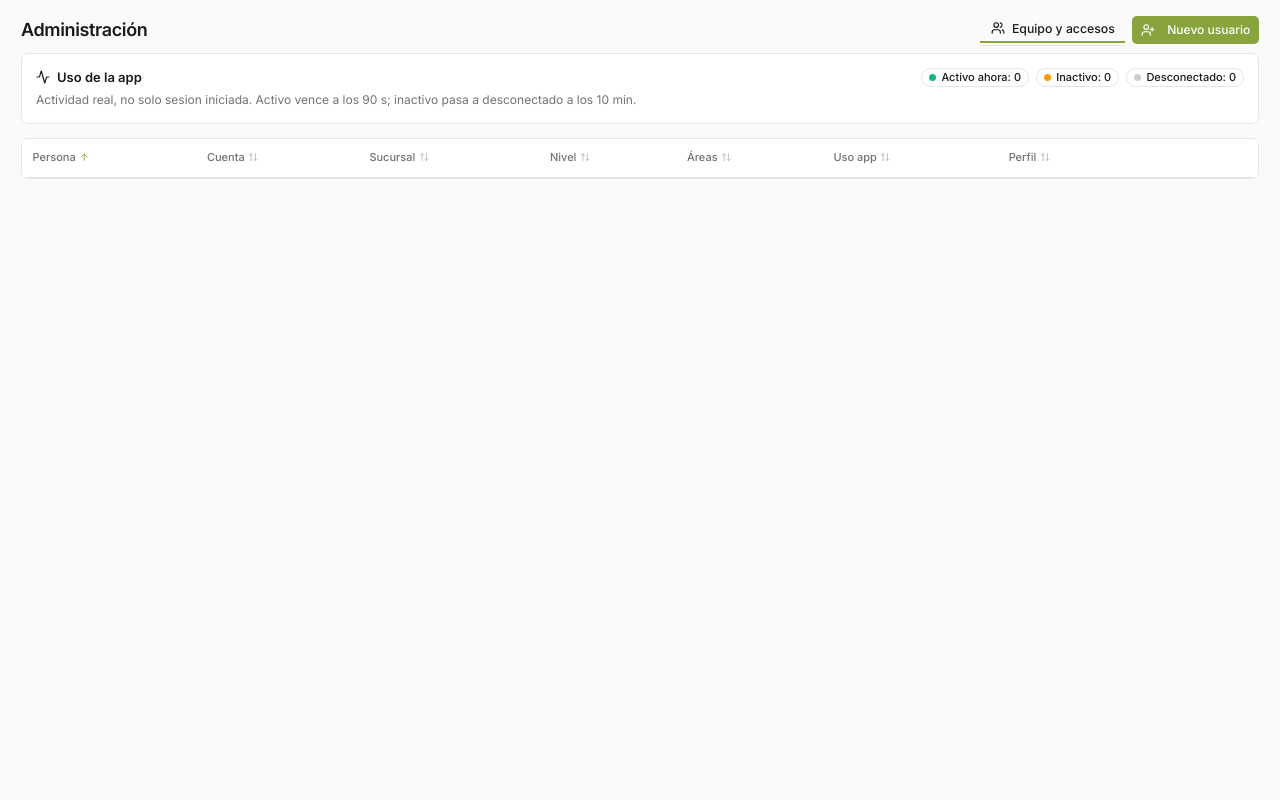
Administración: alta de operativos sin acceso › bloquea reenvíos y cambios de modo mientras se guarda
This screenshot has width=1280, height=800.
Later steps or results of the test are not shown.
Click the button "Nuevo usuario" at [1196, 30], box [1132,16,1259,44]
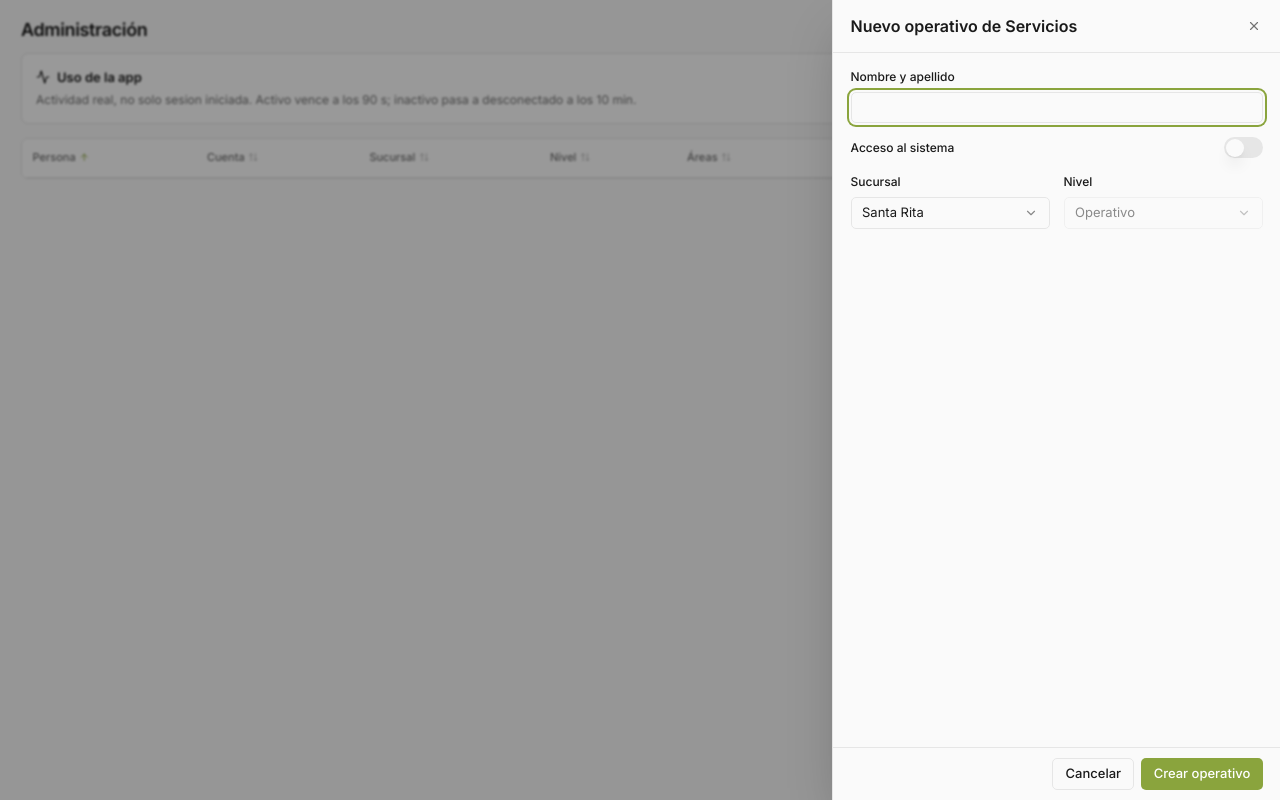
Click the button "Crear operativo" at [1202, 774], box [1141,758,1262,790]
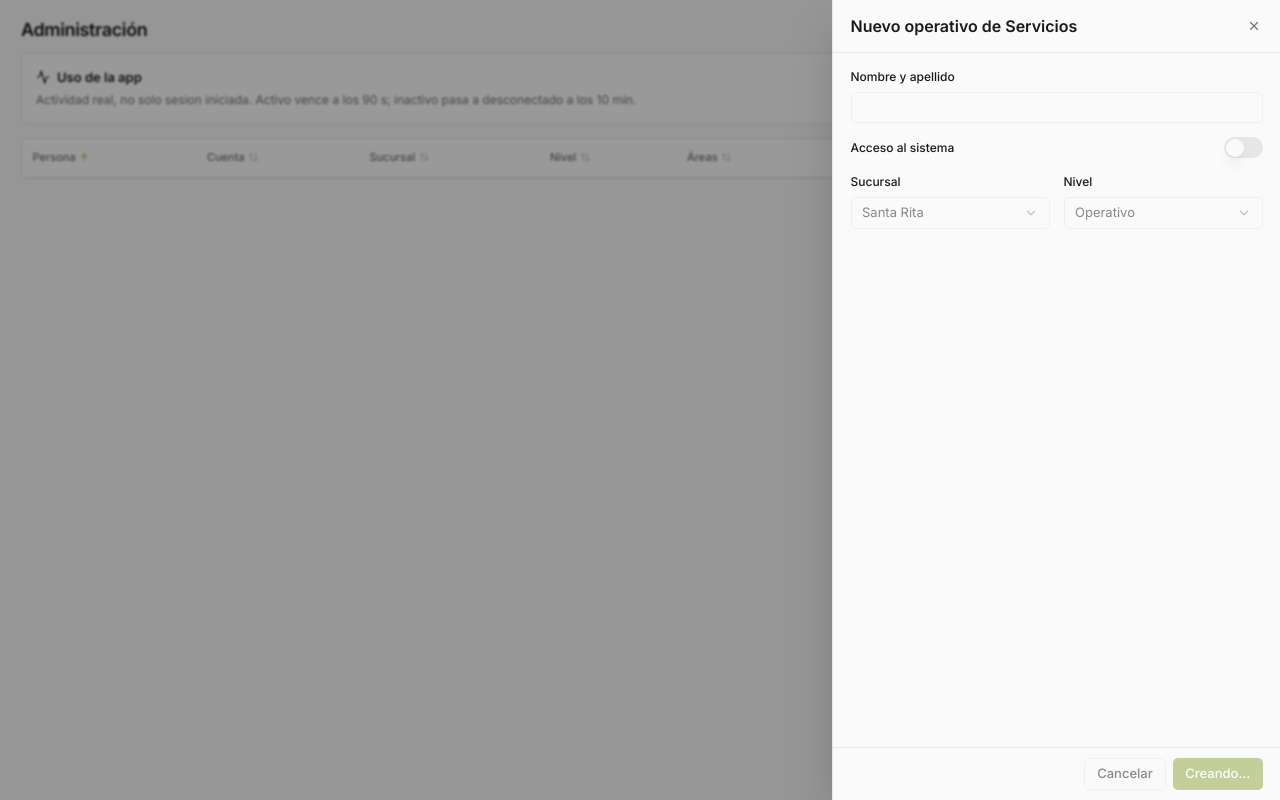
Check: the switch is disabled, box [1224,137,1262,158]
Check: the button "Creando…" is disabled, box [1173,758,1262,790]
Check: the button "Cancelar" is disabled, box [1084,758,1166,790]
